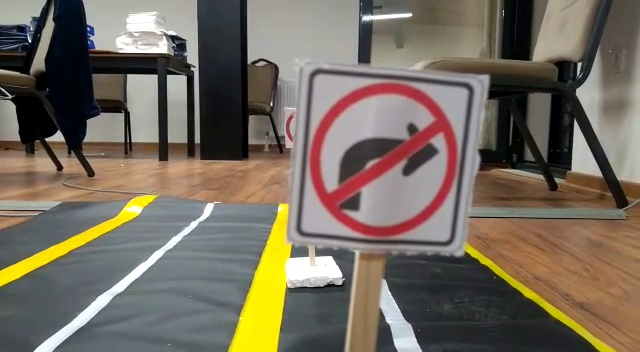saga_donulmez: (306, 72, 458, 246)
